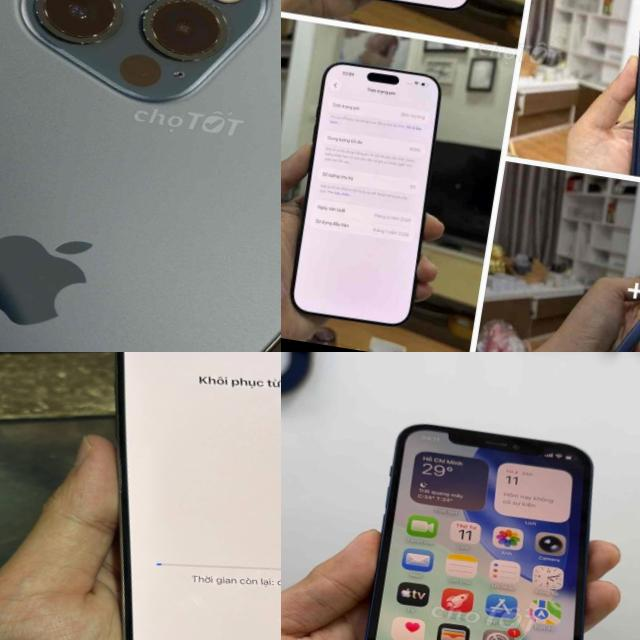gen_12_13: (0, 0, 281, 352), (350, 416, 628, 640)
gen_14: (50, 352, 281, 640)
gen_17: (283, 58, 455, 344)
